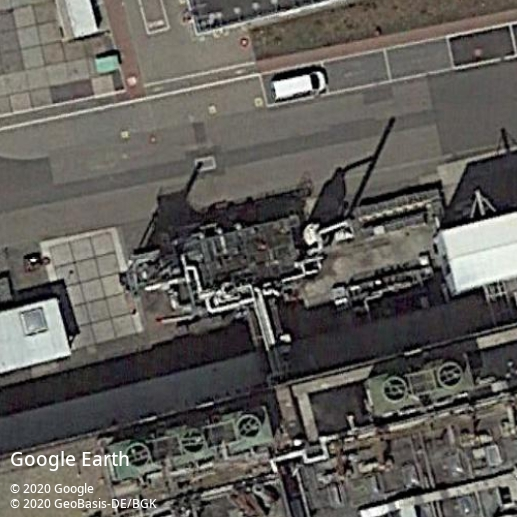Vent: (381, 376, 408, 403), (123, 442, 150, 469), (437, 361, 463, 389), (179, 428, 206, 454), (235, 414, 262, 439)
